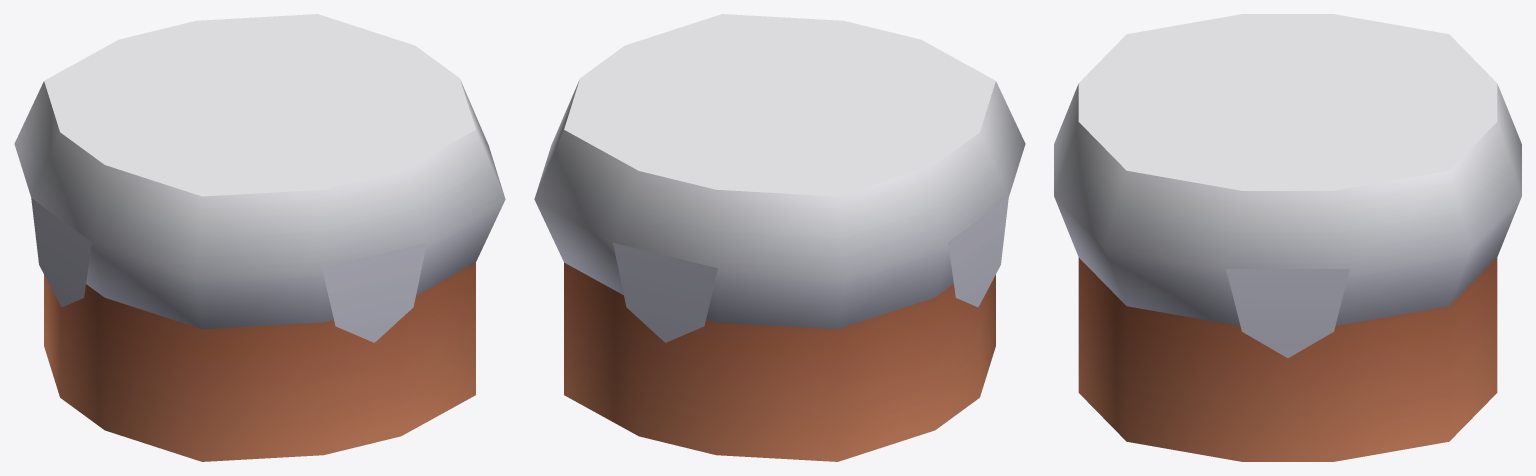
File: kenney-platformer-block-snow-overhang-low-narrow.glb
3 renders of one model, left to right at view 1: azimuth 30°, elevation 25°; view 2: azimuth 150°, elevation 25°; view 3: azimuth 270°, elevation 25°, orthographic. The views are drawn at different scales.
Visible parts, largest first — view 1: block-snow-overhang-low-narrow; view 2: block-snow-overhang-low-narrow; view 3: block-snow-overhang-low-narrow.
Boxes of the visible parts, bbox=[...] form: block-snow-overhang-low-narrow: bbox=[14, 14, 505, 461]; block-snow-overhang-low-narrow: bbox=[534, 14, 1025, 461]; block-snow-overhang-low-narrow: bbox=[1054, 14, 1521, 461].
Size of the model in its own units: 0.7821 by 0.5 by 0.7821.
1 material, 1 textured.
